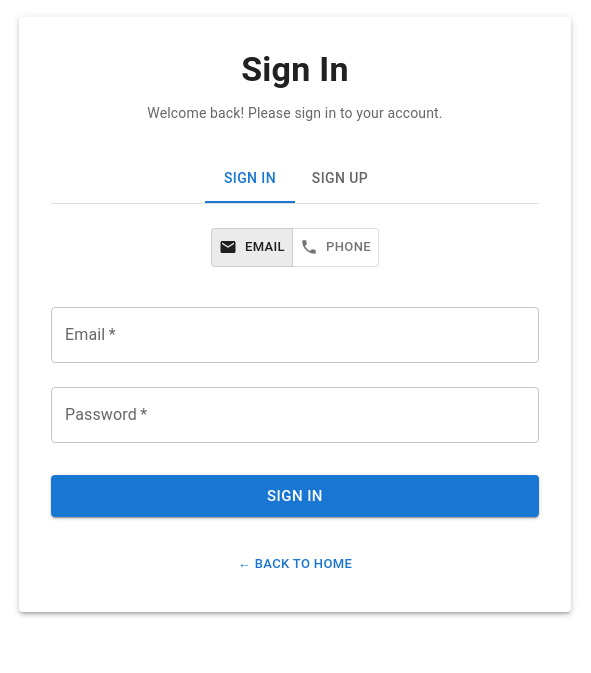
Test: Login › should switch to sign up tab
Click the tab "Sign Up" at (340, 179), box [295,155,385,203]
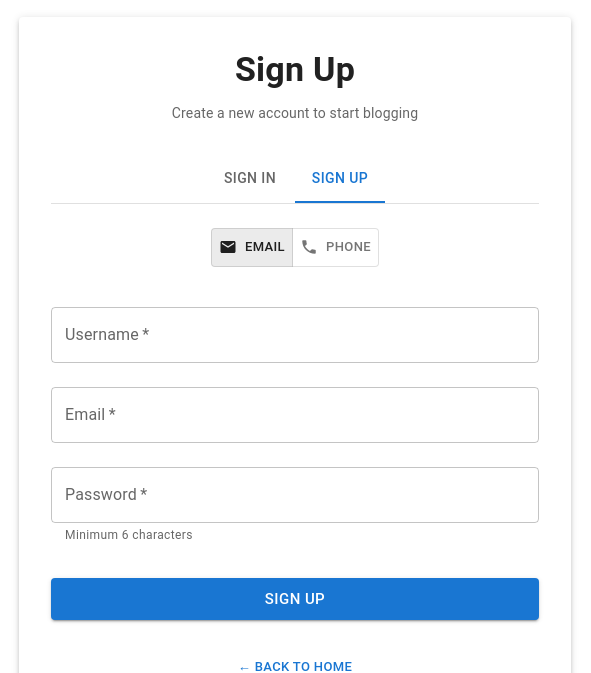
Now the field labelled "Username *" is shown, box [51,307,539,363]
